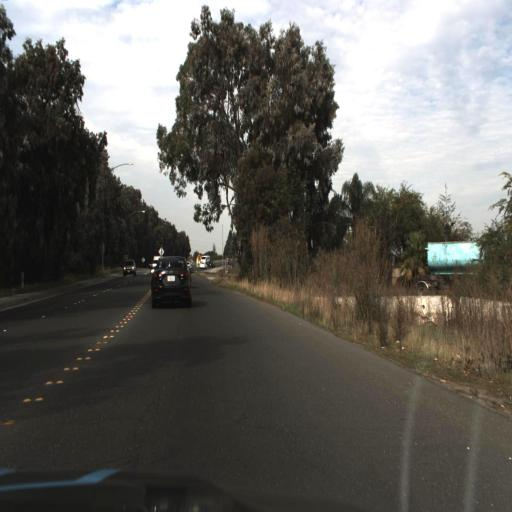car: (148, 254, 190, 309), (120, 257, 137, 281)
